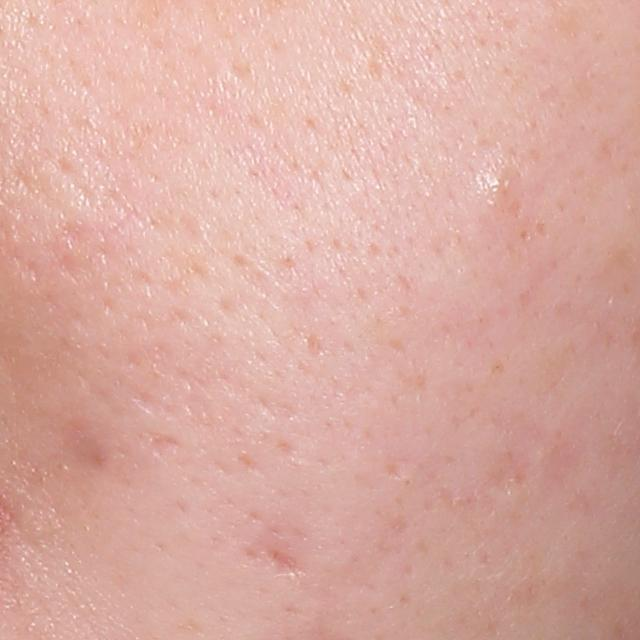atrophic_scar: (257, 545, 308, 589), (148, 432, 175, 455)
comedo: (476, 158, 531, 213)
